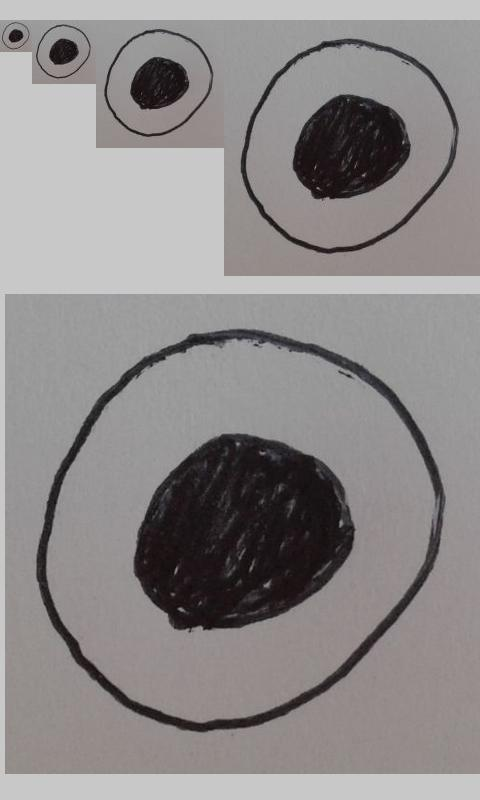radio_button: (34, 326, 446, 734), (238, 35, 462, 256), (104, 28, 215, 137), (35, 24, 91, 79), (1, 21, 30, 50)
